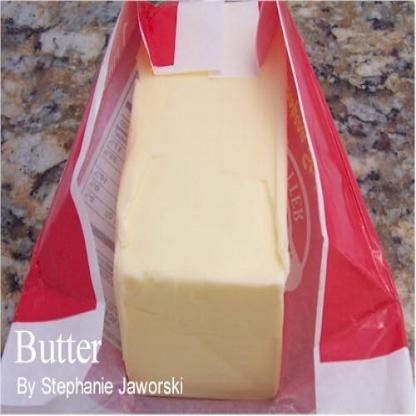butter: (113, 49, 289, 415)
